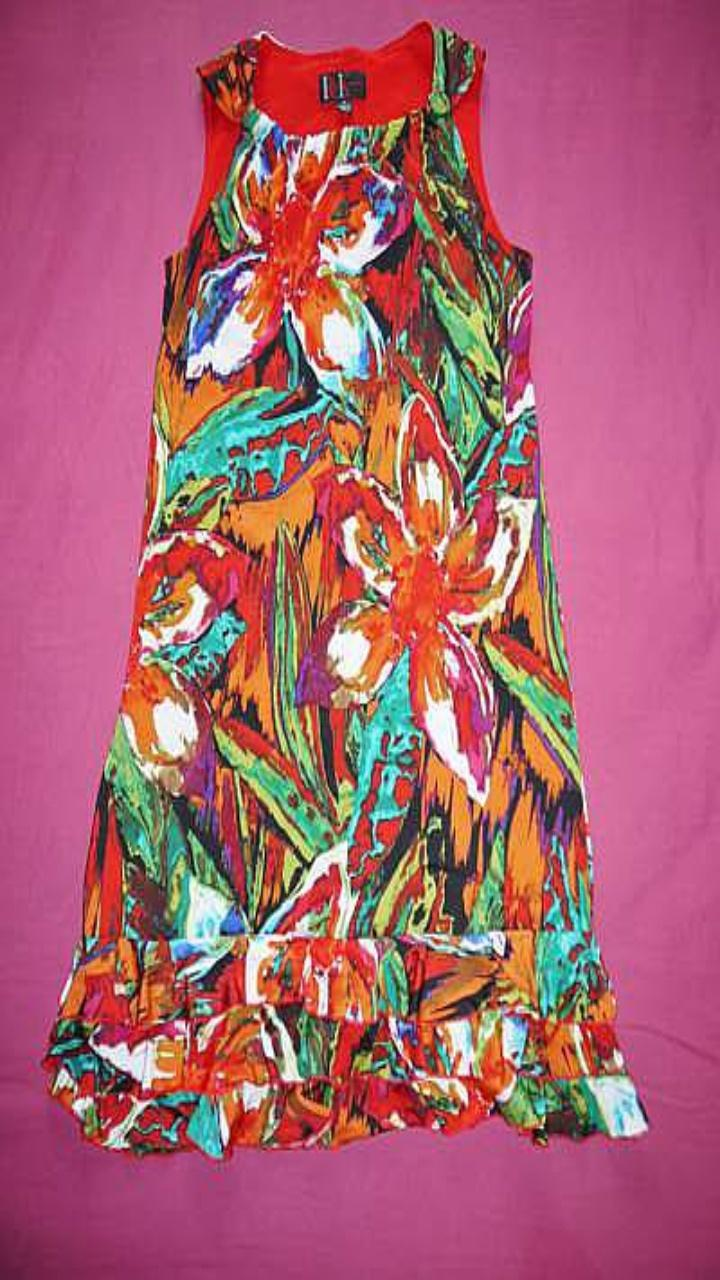Dresses: (42, 20, 648, 1158)
